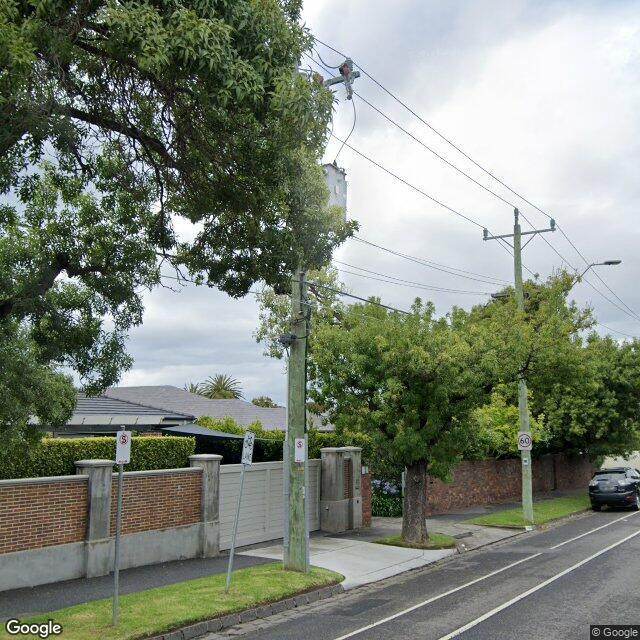HV-transmission: (482, 208, 556, 241), (324, 56, 356, 100)
crossarm: (484, 228, 556, 240), (323, 71, 361, 86)
streetlight: (573, 260, 621, 286)
timber-pole: (283, 260, 310, 567), (514, 224, 534, 523)
transformer: (319, 161, 348, 220)
